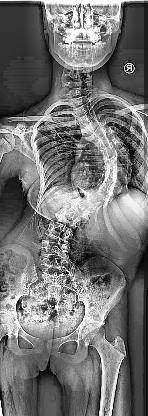Vertebrae: (44, 221, 76, 243), (56, 204, 82, 230), (41, 239, 73, 259), (68, 197, 96, 219), (86, 188, 108, 208), (98, 178, 124, 194), (80, 115, 100, 135), (95, 187, 120, 203), (85, 126, 107, 144), (101, 143, 119, 161), (76, 109, 96, 125), (102, 166, 124, 180), (94, 134, 112, 150), (69, 92, 89, 106), (72, 103, 92, 117), (103, 155, 122, 169), (68, 88, 88, 96)
